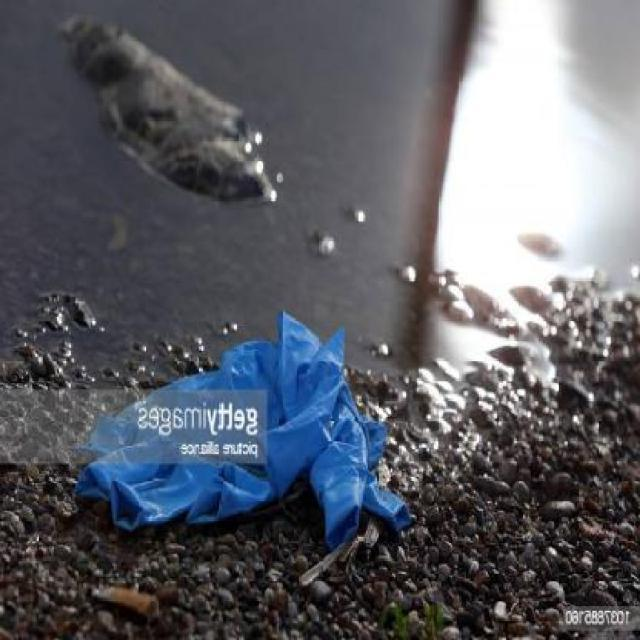gloved_hand: (61, 308, 413, 566)
